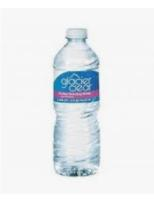plastic_bottle: (48, 25, 106, 178)
